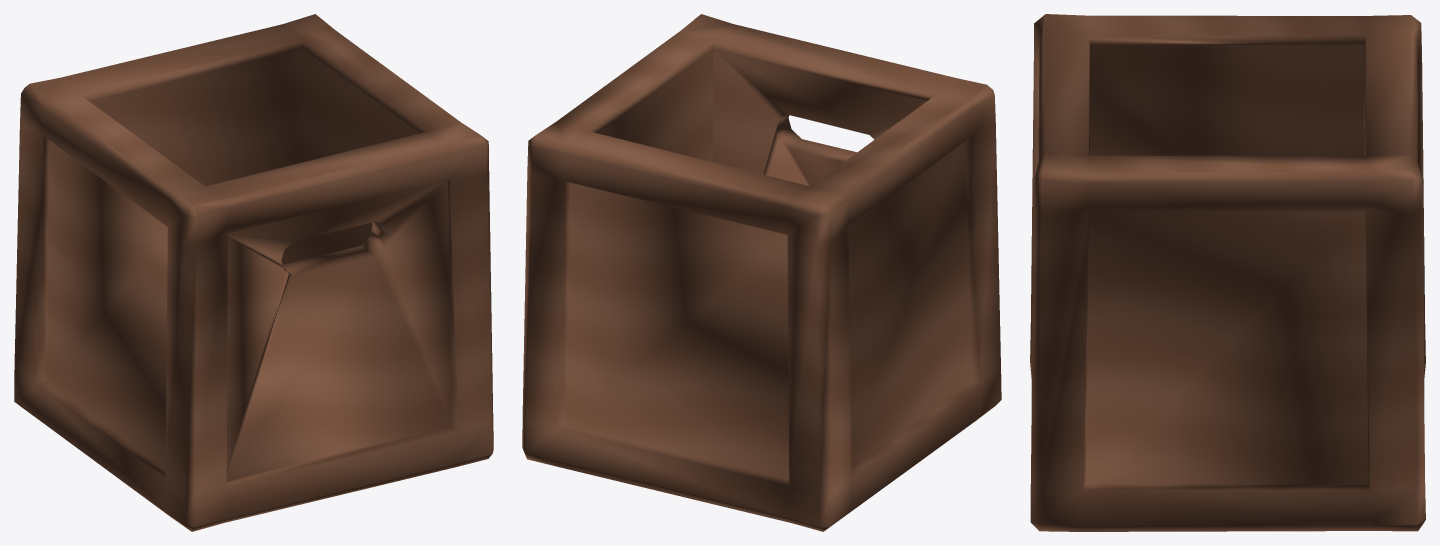
File: P06_atlas_v1.glb
3 views of the same model, side by side, from view 1: azimuth 30°, elevation 25°; view 2: azimuth 150°, elevation 25°; view 3: azimuth 270°, elevation 25° (orthographic). The views are drawn at different scales.
Parts seen in each view (by area): view 1: P06_GeometryCandidate; view 2: P06_GeometryCandidate; view 3: P06_GeometryCandidate.
Part boxes in pixels (x1,y1,x2,y2): P06_GeometryCandidate: (14, 14, 493, 531); P06_GeometryCandidate: (522, 14, 1001, 531); P06_GeometryCandidate: (1030, 14, 1425, 531).
Bounding box in the file's own units: 3 × 3 × 3.
1 material, 1 textured.
